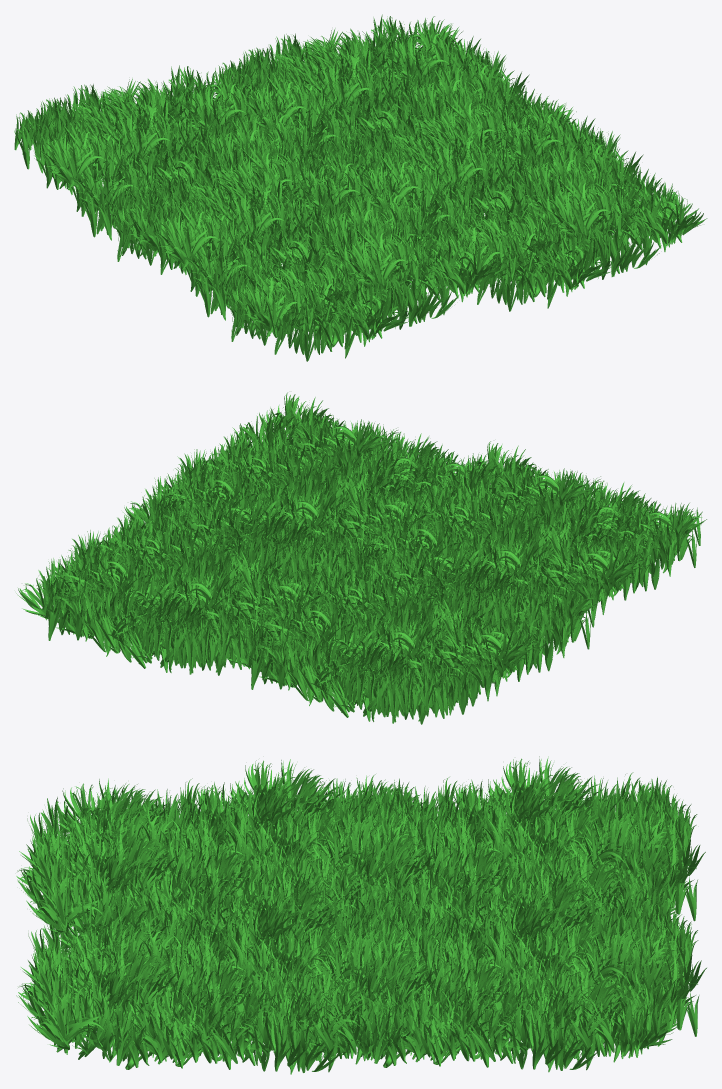
The model's file is gramanova.glb.
3 renders of one model, top to bottom at view 1: azimuth 30°, elevation 25°; view 2: azimuth 150°, elevation 25°; view 3: azimuth 270°, elevation 25°, orthographic. The views are drawn at different scales.
Bounding box in the file's own units: 2.28 × 0.3954 × 2.47.
